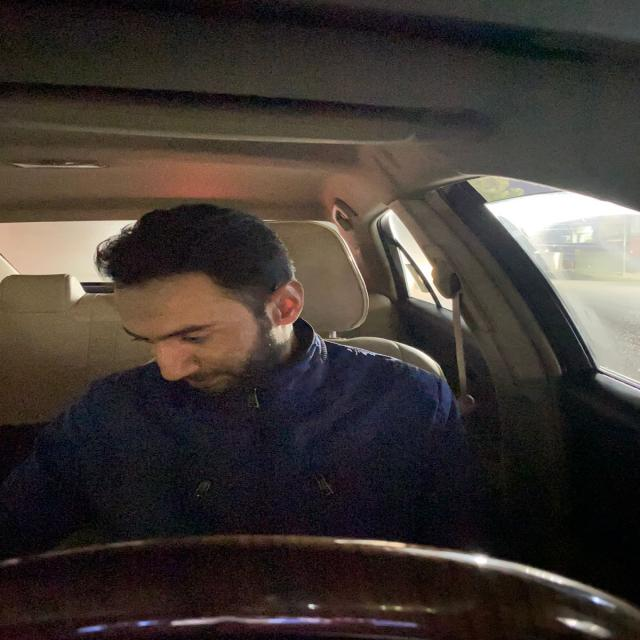person: (98, 201, 309, 399)
